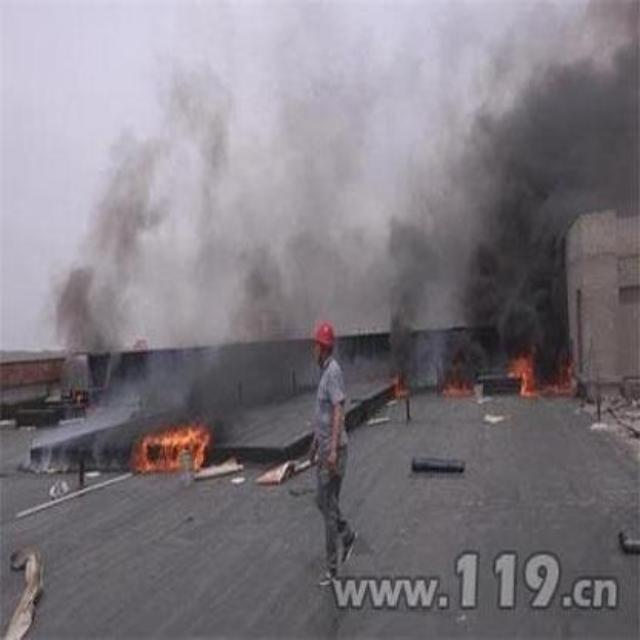Fire: (138, 428, 210, 480), (506, 357, 582, 401), (443, 368, 471, 398), (393, 370, 407, 400)
Smoke: (87, 11, 577, 347), (113, 356, 301, 426), (588, 7, 636, 222)
